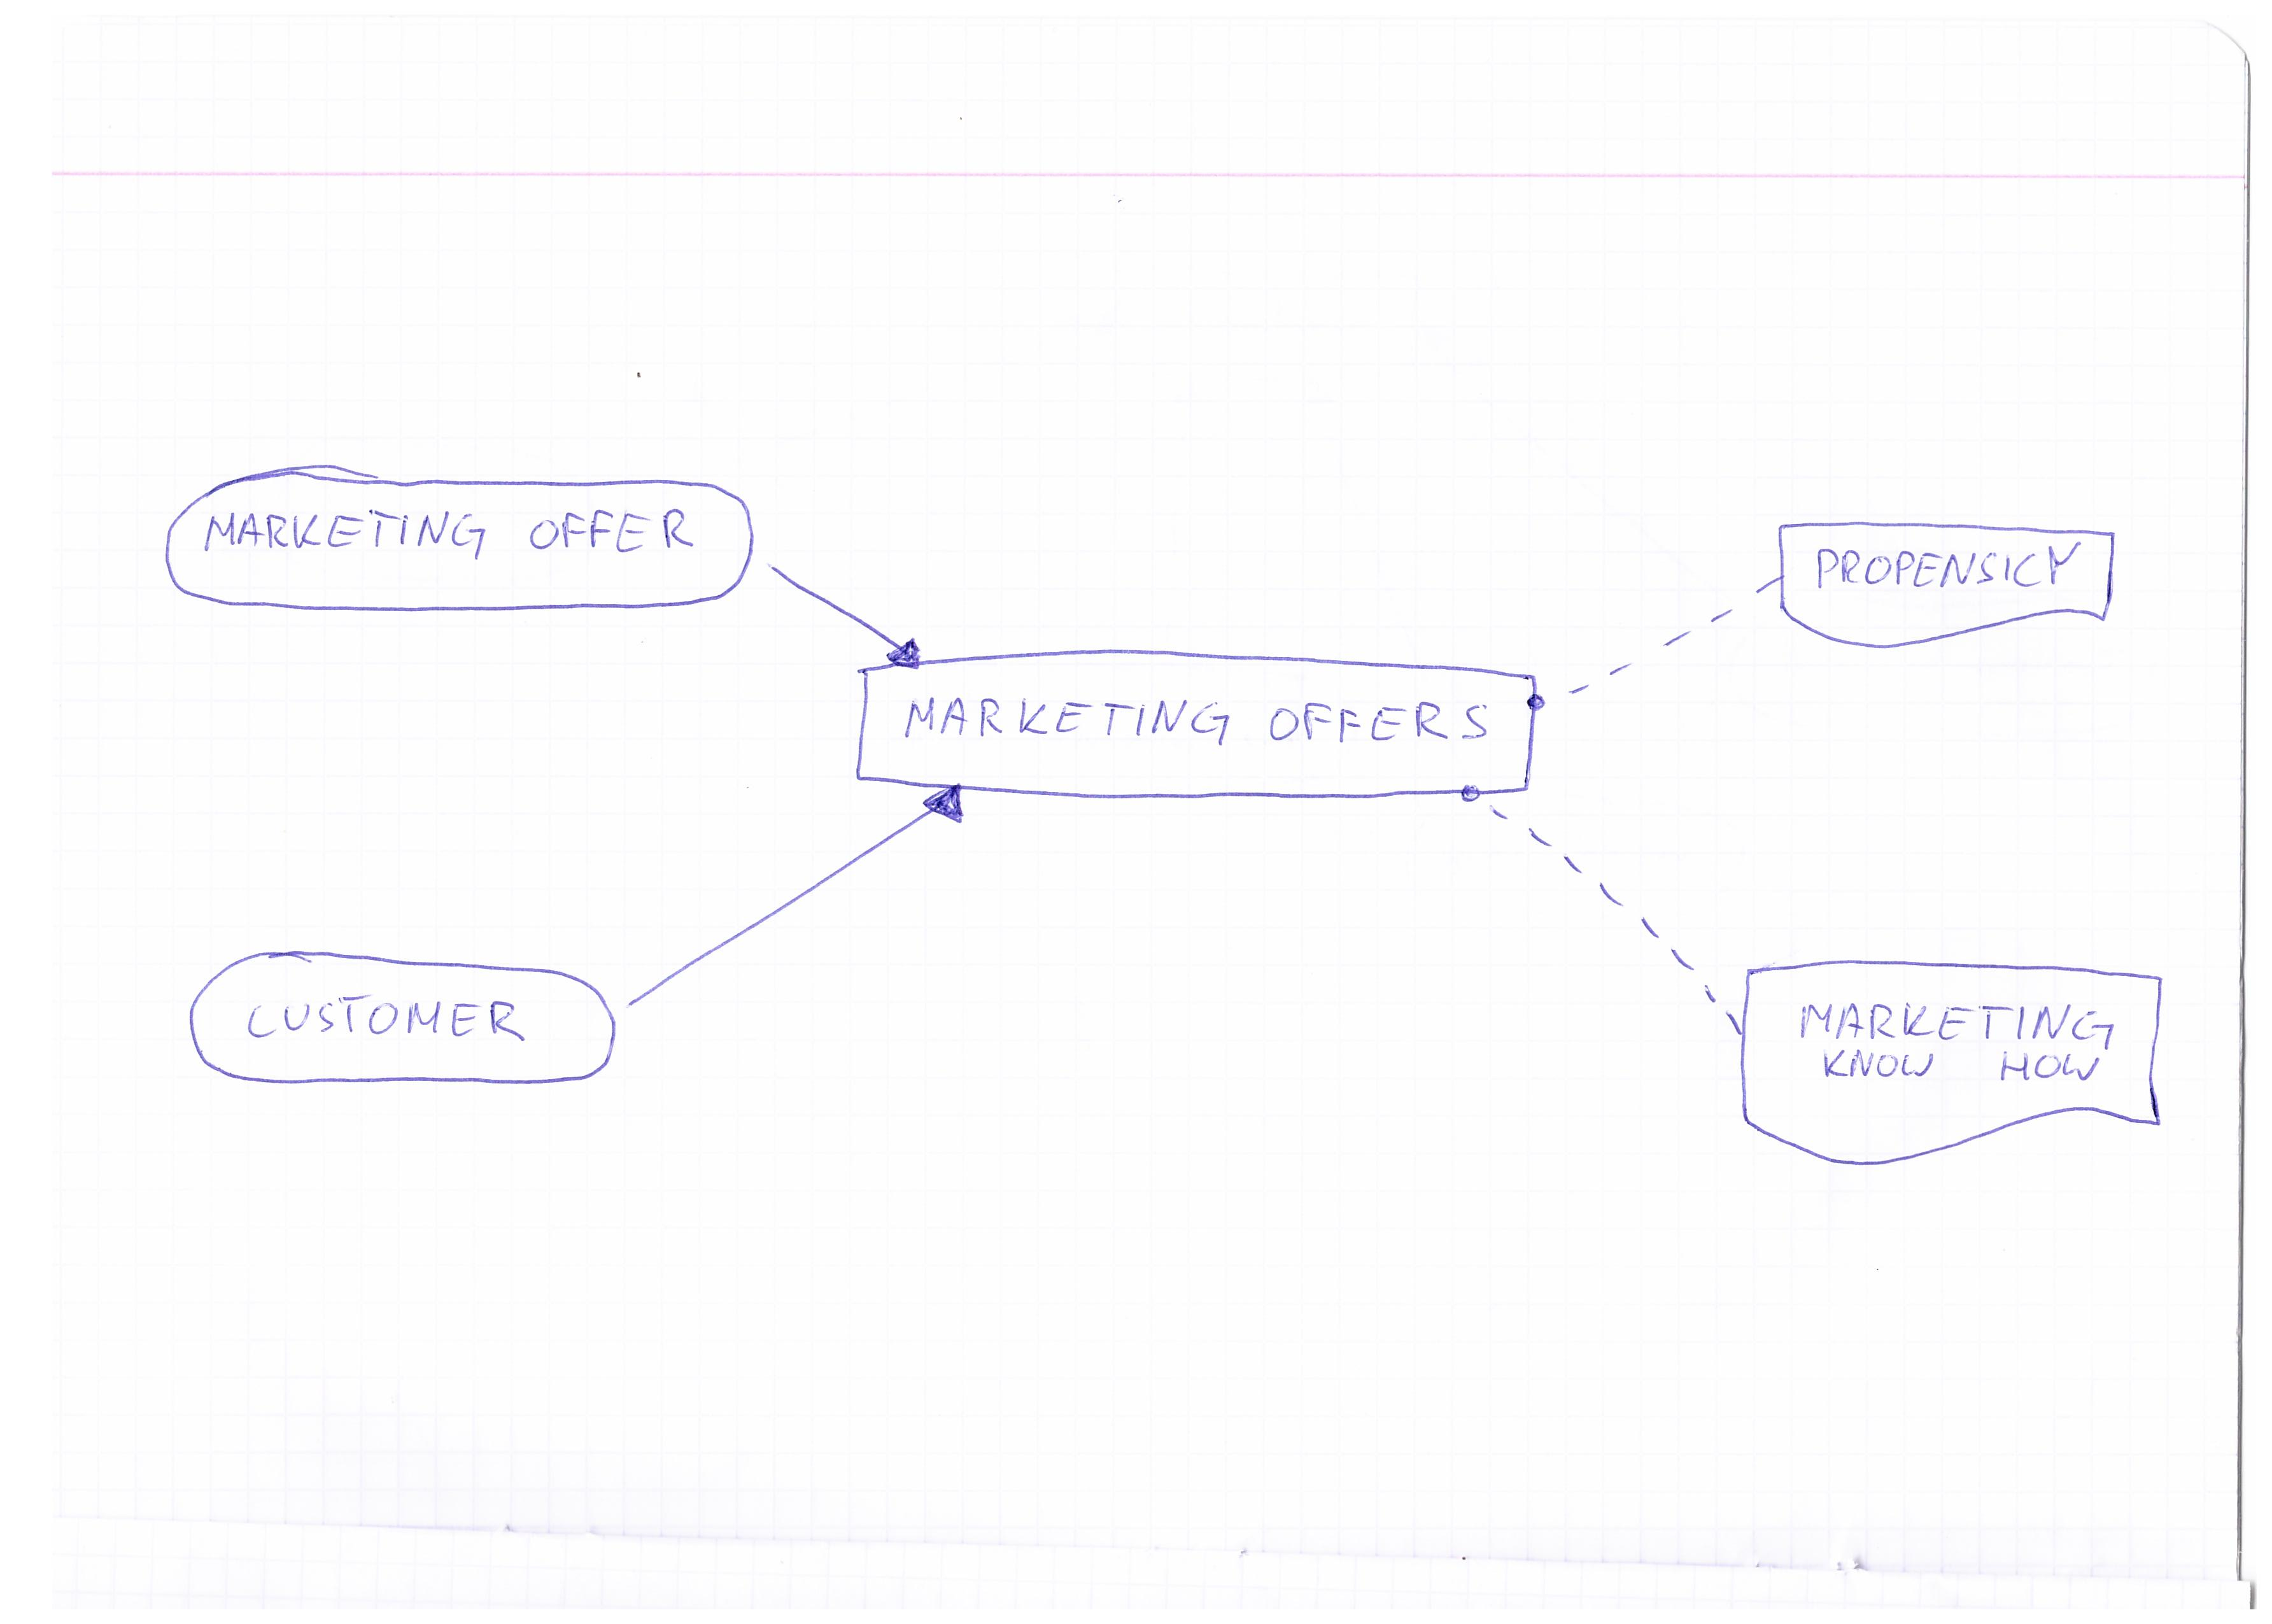arrow_authority_requirement: (1441, 777, 1745, 1048), (1523, 564, 1784, 722)
arrow_information_requirement: (622, 779, 975, 1019), (754, 552, 930, 675)
node_decision: (852, 649, 1541, 803)
node_input_data: (148, 452, 763, 619), (172, 939, 620, 1102)
node_knowledge_source: (1738, 947, 2179, 1174), (1773, 510, 2135, 661)
text: (889, 682, 1501, 754), (1780, 984, 2128, 1098), (200, 499, 703, 566), (230, 979, 541, 1051), (1812, 534, 2089, 598)
